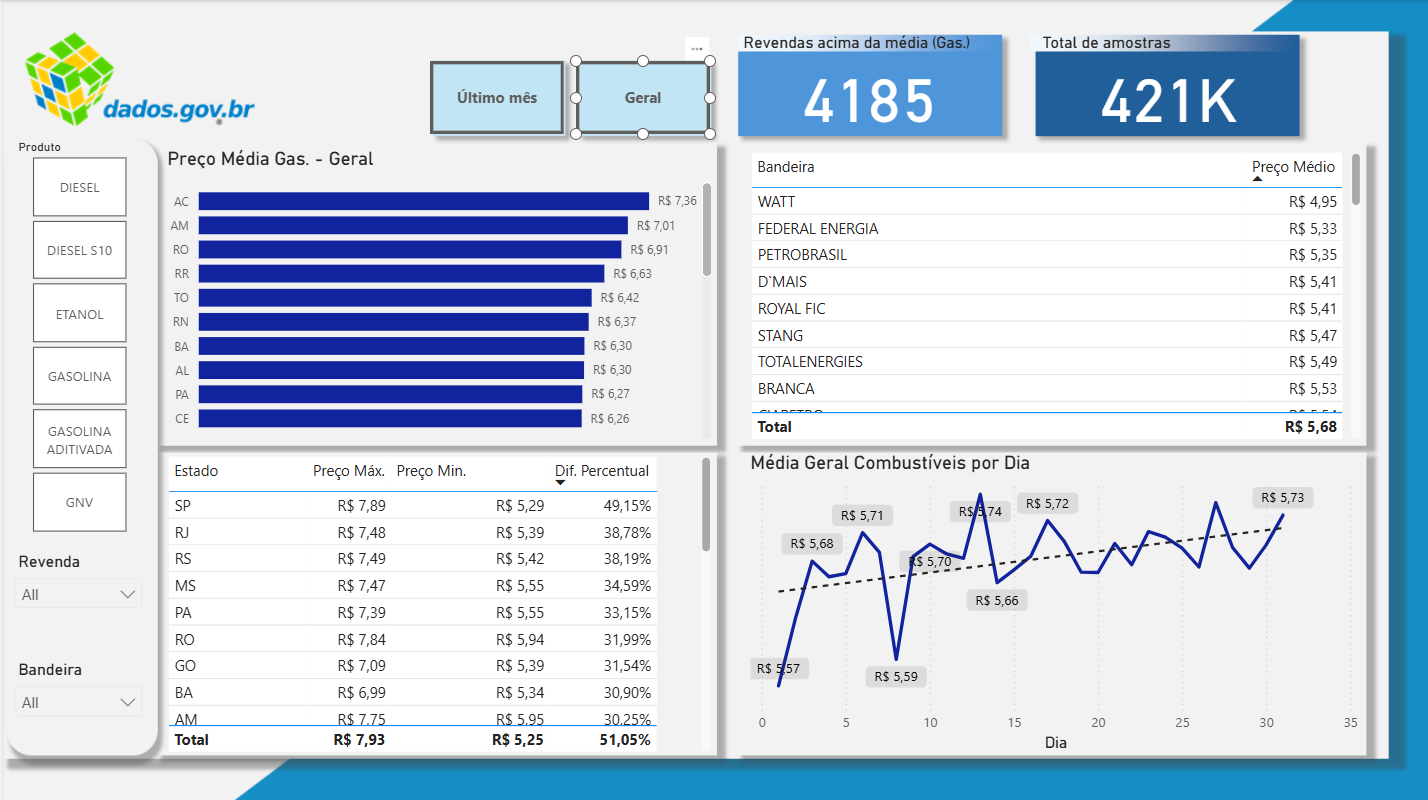

The page's visual inventory and layout, read from the dashboard file:
{"tool":"powerbi","page":{"name":"Relatório de Combustíveis","canvas":[1280,720],"ordinal":0},"visuals":[{"type":"card","title":"Revendas acima da média (Gas.)","fields":{"Values":["Medidas.Revendas acima da Media"]},"box":[659,30.5,236.1,89.8],"z":1000},{"type":"tableEx","fields":{"Values":["dBandeiras.Bandeira","Medidas.Media Geral Combustiveis"]},"box":[665.2,132,558.4,266.6],"z":2000},{"type":"tableEx","fields":{"Values":["dEstados.Estado - Sigla","Max(fPrecos.Valor de Venda)","Min(fPrecos.Valor de Venda)1","Medidas.Dif Percent Diesel"]},"box":[141.8,404.9,498.3,274.7],"z":3000},{"type":"lineChart","title":"Média Geral Combustíveis por Dia","fields":{"Category":["fPrecos.Data da Coleta.Variation.Hierarquia de datas.Ano","fPrecos.Data da Coleta.Variation.Hierarquia de datas.Trimestre","fPrecos.Data da Coleta.Variation.Hierarquia de datas.Mês","fPrecos.Data da Coleta.Variation.Hierarquia de datas.Dia"],"Y":["Medidas.Media Geral Combustiveis"]},"box":[665.2,404.9,558.4,274.7],"z":4000},{"type":"slicer","fields":{"Values":["dProdutos.Produto"]},"box":[0,120.3,133.8,363.6],"z":5000},{"type":"card","title":"Total de amostras","fields":{"Values":["Medidas.Total Amostras"]},"box":[927.4,30.5,236.1,89.8],"z":6000},{"type":"clusteredBarChart","title":"Preço Média Gas. - Geral","fields":{"Category":["dEstados.Estado - Sigla"],"Y":["Medidas.Preco Media Gas"]},"box":[141.8,132,498.3,266.6],"z":7000},{"type":"slicer","fields":{"Values":["dRevenda.Revenda"]},"box":[0,491.1,133.8,97],"z":8000},{"type":"slicer","fields":{"Values":["dBandeiras.Bandeira"]},"box":[0,588,133.8,80.8],"z":9000},{"type":"actionButton","box":[382.4,54.8,120.3,65.5],"z":10000},{"type":"actionButton","box":[513.5,54.8,120.3,65.5],"z":11000}]}

Visuals, with their boxes in screenshot pixels (x1, y1, x2, y2), scaled from the page's 1280x720 canvas onto the 1428x800 screenshot:
"Revendas acima da média (Gas.)" card: 735:34:999:134
tableEx - dBandeiras.Bandeira x Medidas.Media Geral Combustiveis: 742:147:1365:443
tableEx - dEstados.Estado - Sigla x Max(fPrecos.Valor de Venda): 158:450:714:755
"Média Geral Combustíveis por Dia" lineChart: 742:450:1365:755
slicer - dProdutos.Produto: 0:134:149:538
"Total de amostras" card: 1035:34:1298:134
"Preço Média Gas. - Geral" clusteredBarChart: 158:147:714:443
slicer - dRevenda.Revenda: 0:546:149:653
slicer - dBandeiras.Bandeira: 0:653:149:743
actionButton: 427:61:561:134
actionButton: 573:61:707:134
